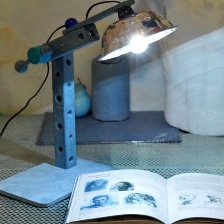light_bulb: (89, 5, 181, 65)
